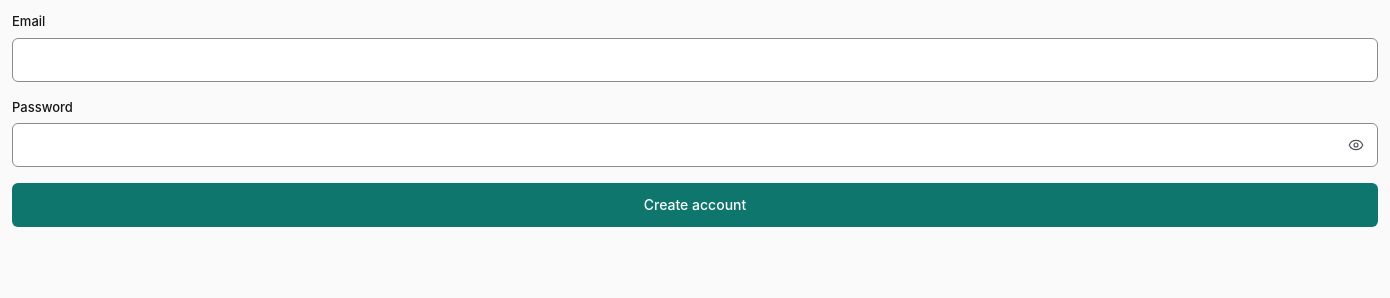
Test: AuthForm client-side checks › asks for an empty field by name
The image size is (1390, 298).
Type "a-long-enough-passphrase" into the password field labelled "Password" at {"x": 695, "y": 145}, box [12,123,1378,167]
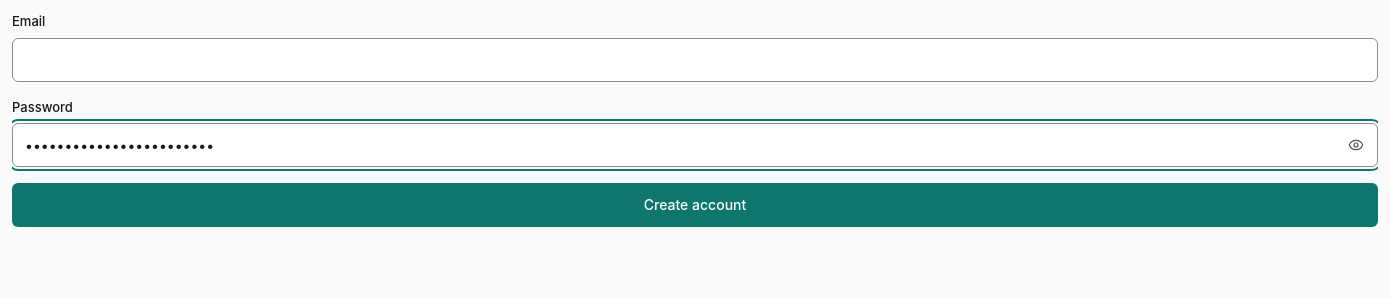
Click the button "Create account" at {"x": 695, "y": 205}, box [12,183,1378,227]
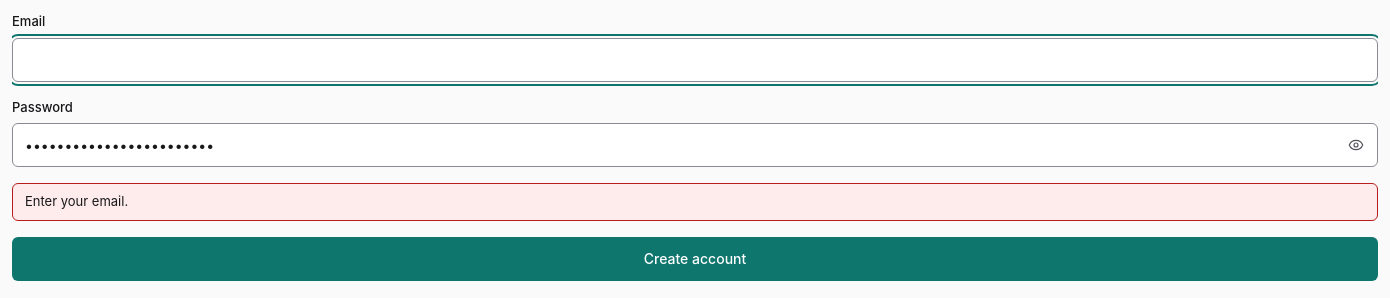
Expected: the message reads "Enter your email.", [25,193,128,209]
